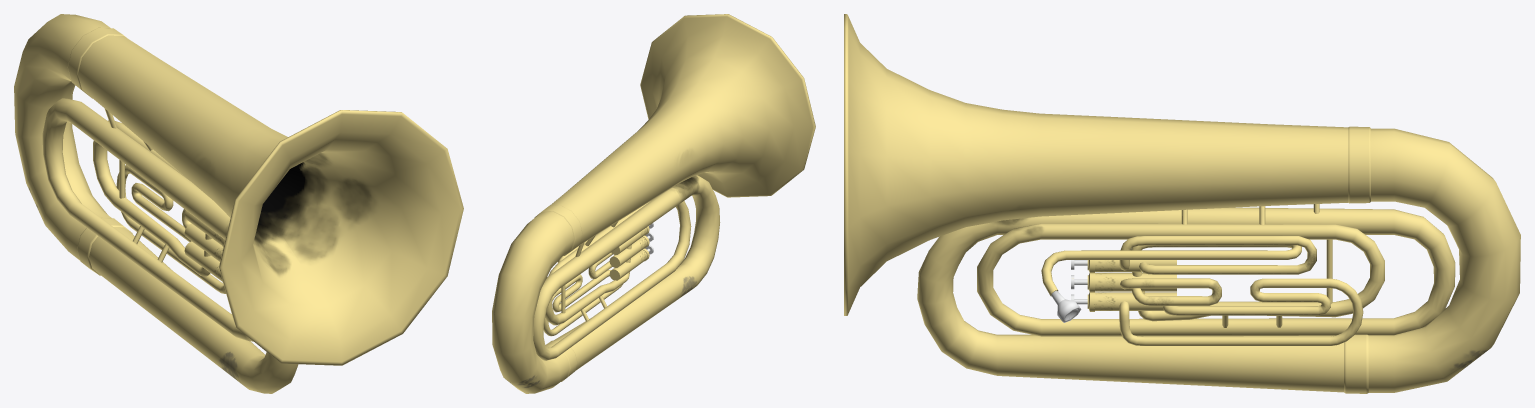
Rendered from Tuba.fbx.
The picture shows the model from 3 angles, left to right: view 1: azimuth 30°, elevation 25°; view 2: azimuth 150°, elevation 25°; view 3: azimuth 270°, elevation 25°; orthographic projection. The views are drawn at different scales.
Visible parts, largest first — view 1: Circle; view 2: Circle; view 3: Circle.
Part boxes in pixels (x1,y1,x2,y2): Circle: [14, 14, 463, 393]; Circle: [492, 14, 815, 393]; Circle: [844, 14, 1520, 393].
Size of the model in its own units: 27.02 by 35.64 by 60.29.
Materials: 1 (1 with a texture image).
